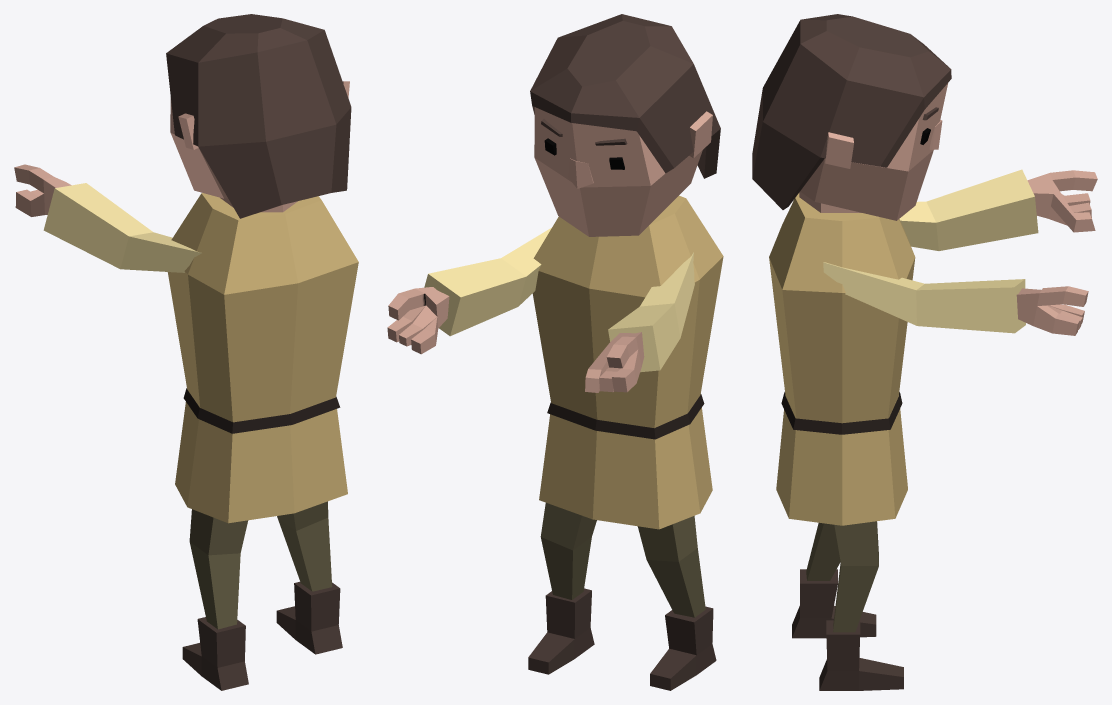
The model's file is character_3.glb.
3 renders of one model, left to right at view 1: azimuth 30°, elevation 25°; view 2: azimuth 150°, elevation 25°; view 3: azimuth 270°, elevation 25°, orthographic.
Parts seen in each view (by area): view 1: Object_2; view 2: Object_2; view 3: Object_2.
Boxes of the visible parts, x1,y1,x2,y2 form: Object_2: [14, 14, 358, 690]; Object_2: [387, 14, 723, 690]; Object_2: [752, 14, 1097, 690].
Size of the model in its own units: 0.7244 by 1.77 by 0.8769.
1 material, 1 textured.
